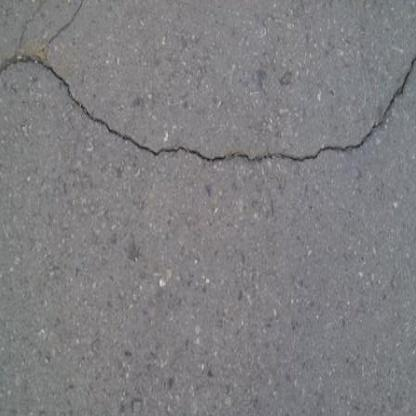Cracks: (0, 21, 416, 174), (19, 0, 102, 58), (12, 0, 49, 63)
